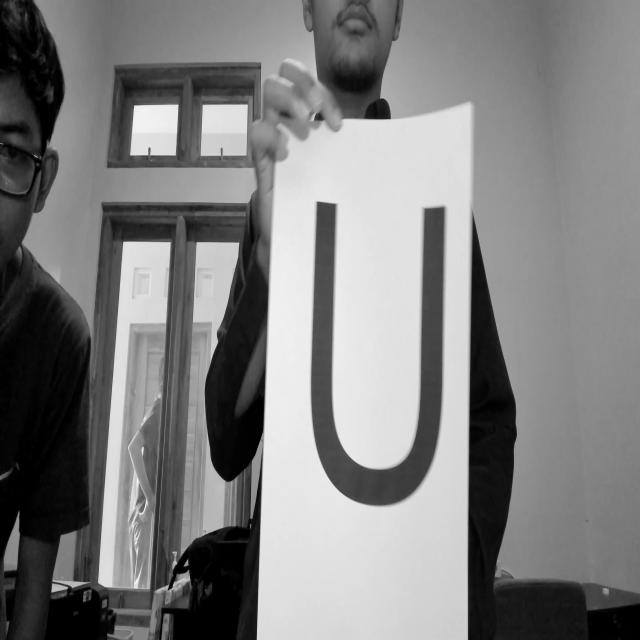u: (300, 173, 461, 518)
